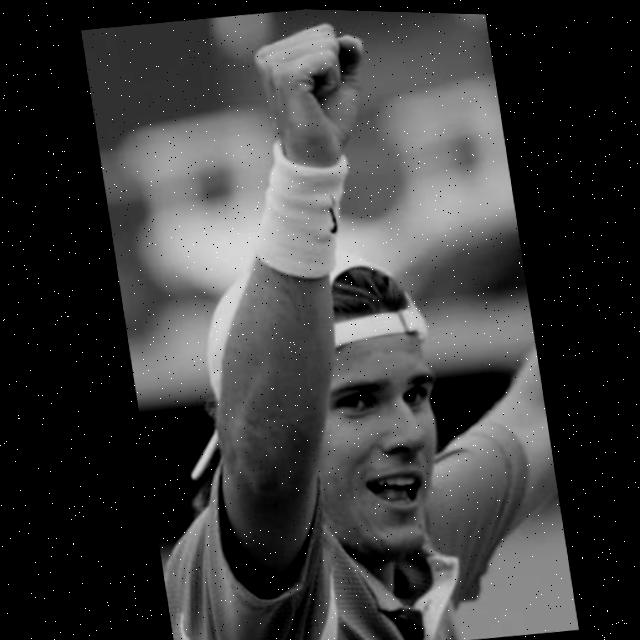face: (276, 256, 481, 585)
